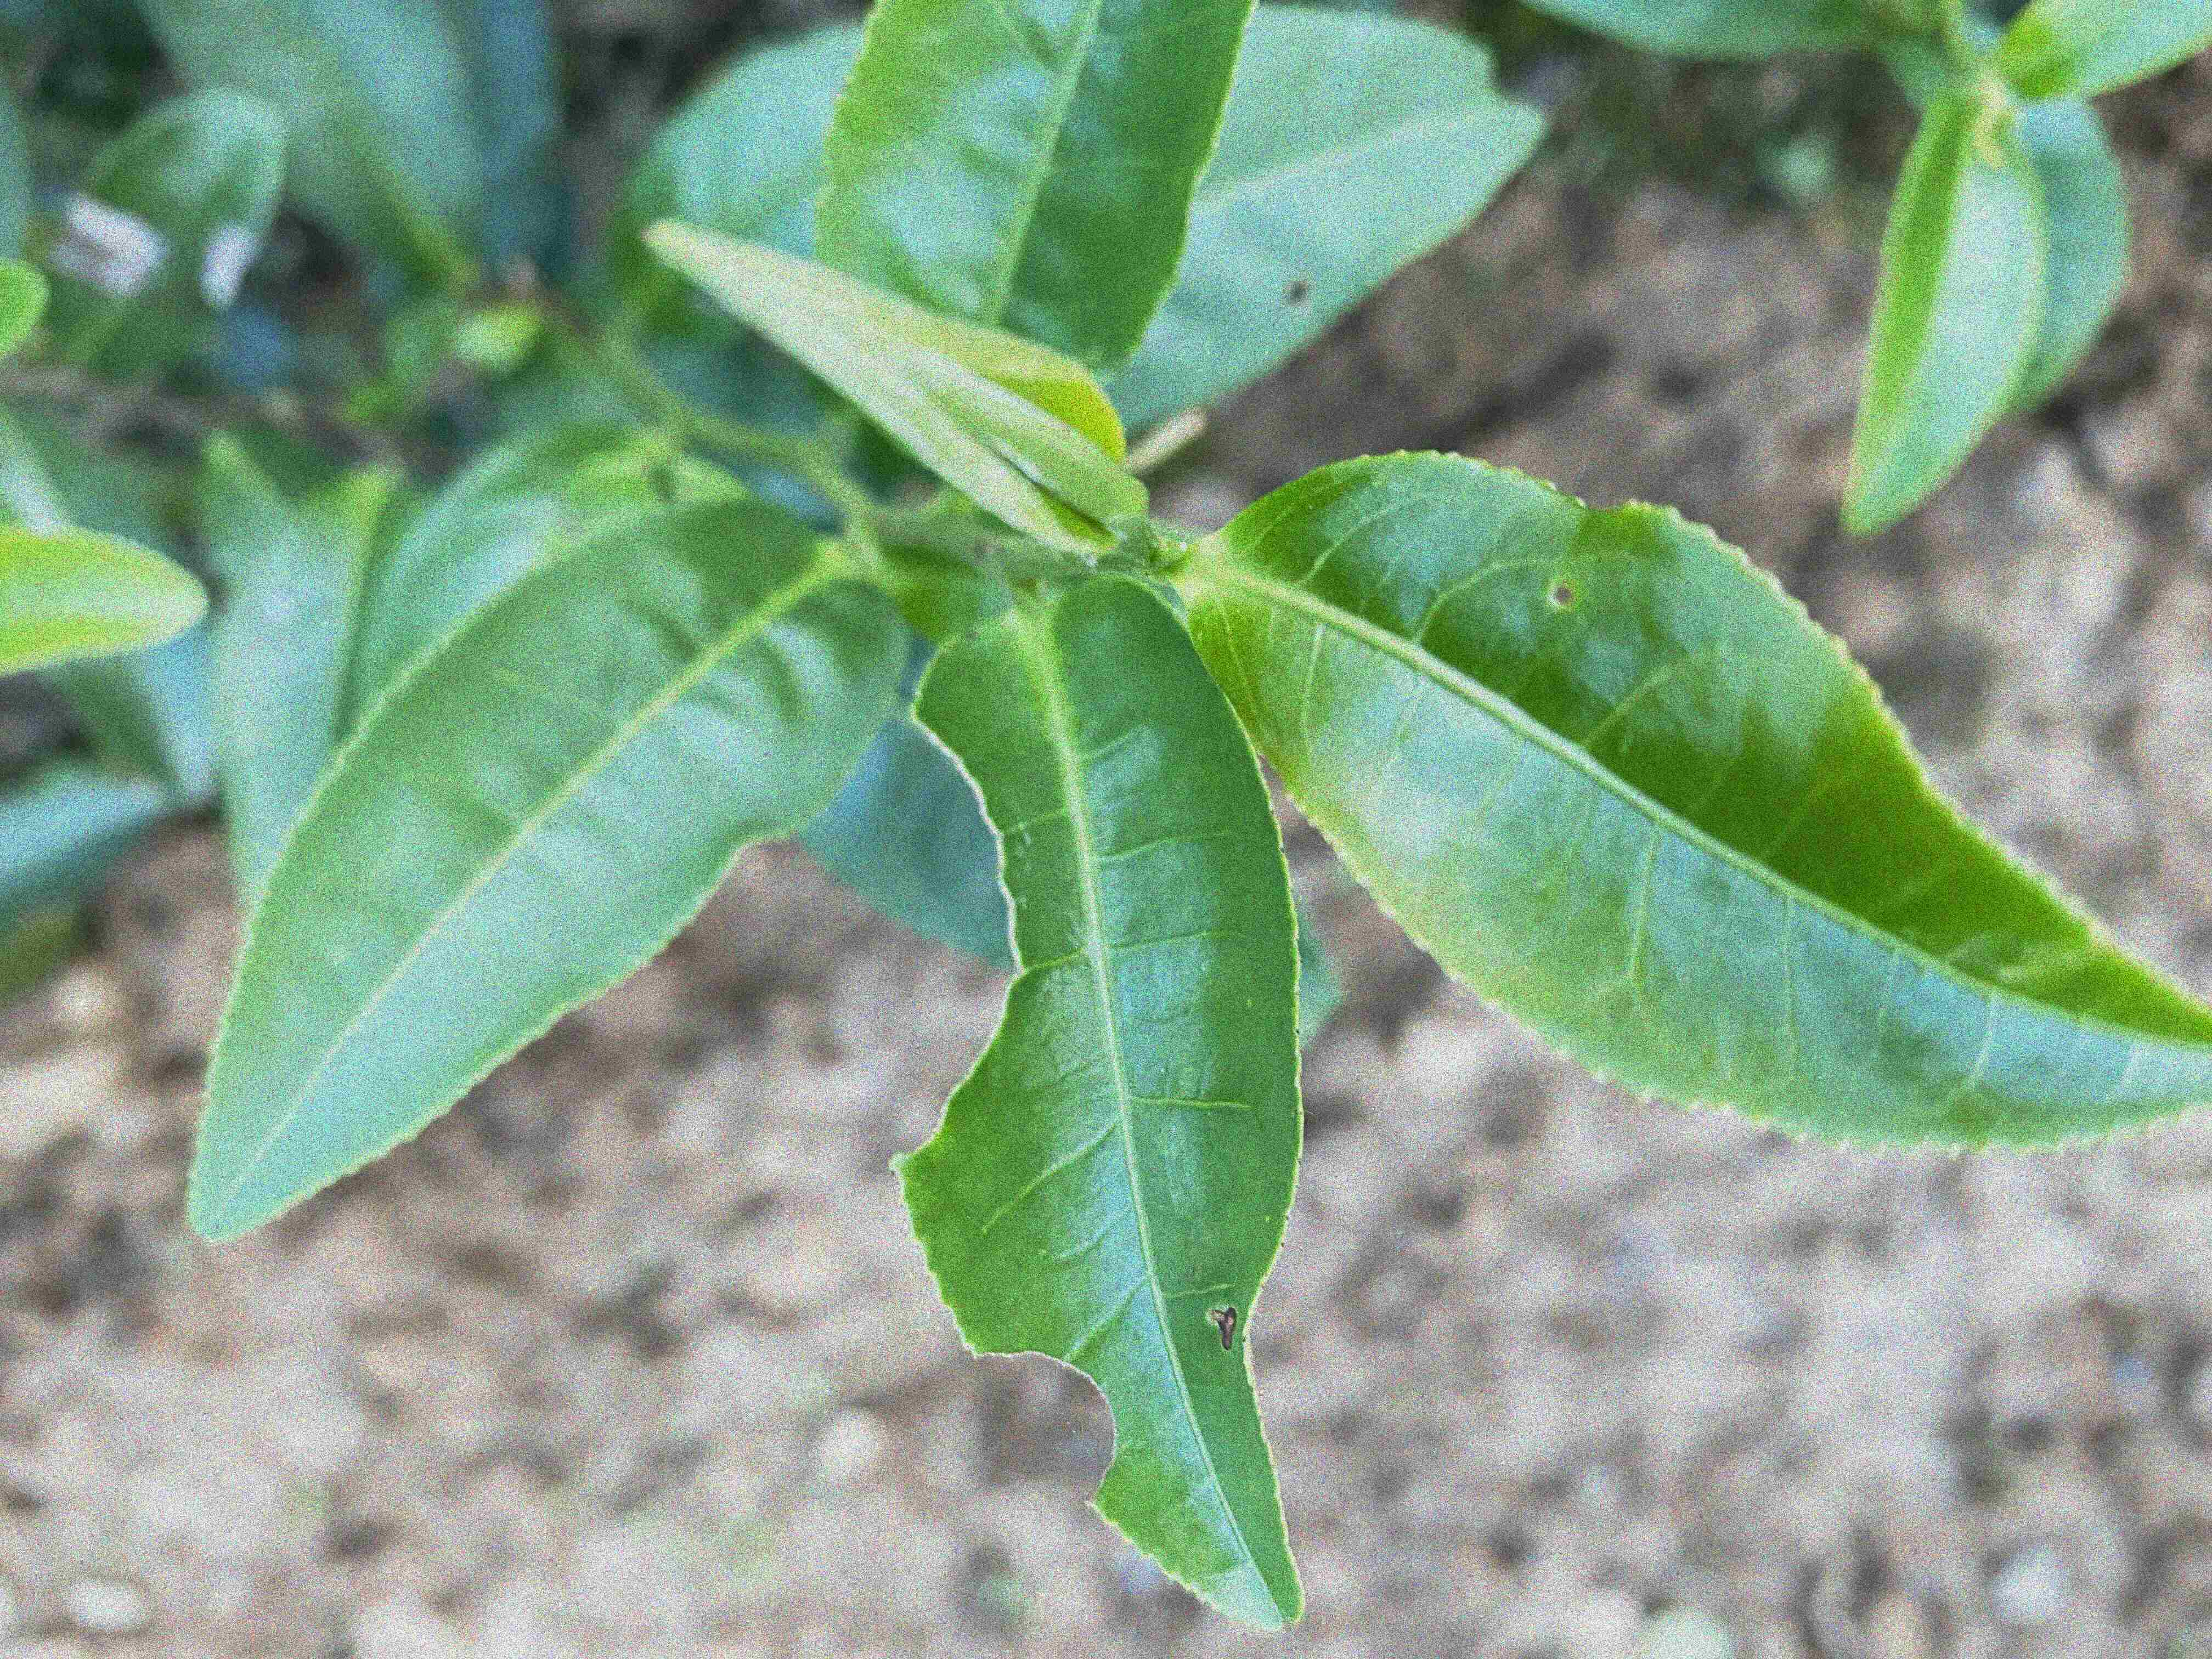chihuo_high: (888, 577, 1303, 1635)
chihuo_low: (1177, 444, 2212, 1161)
healthy: (186, 497, 911, 1243)
